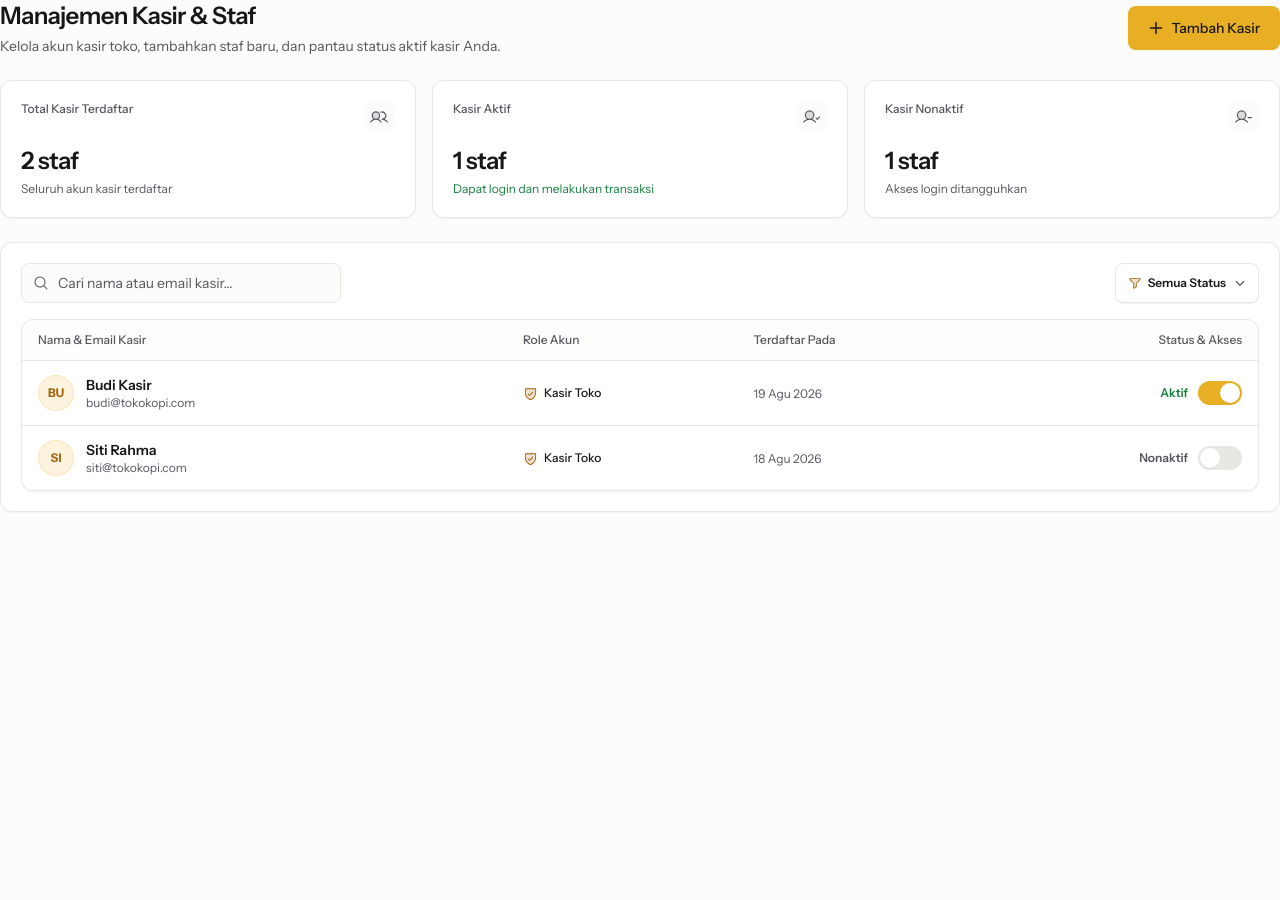
Test: StaffView › opens modal, validates input, and creates a new cashier successfully
# Click 'Tambah Kasir' button
Click the button "Tambah Kasir" at (1204, 28), box [1128,6,1279,50]
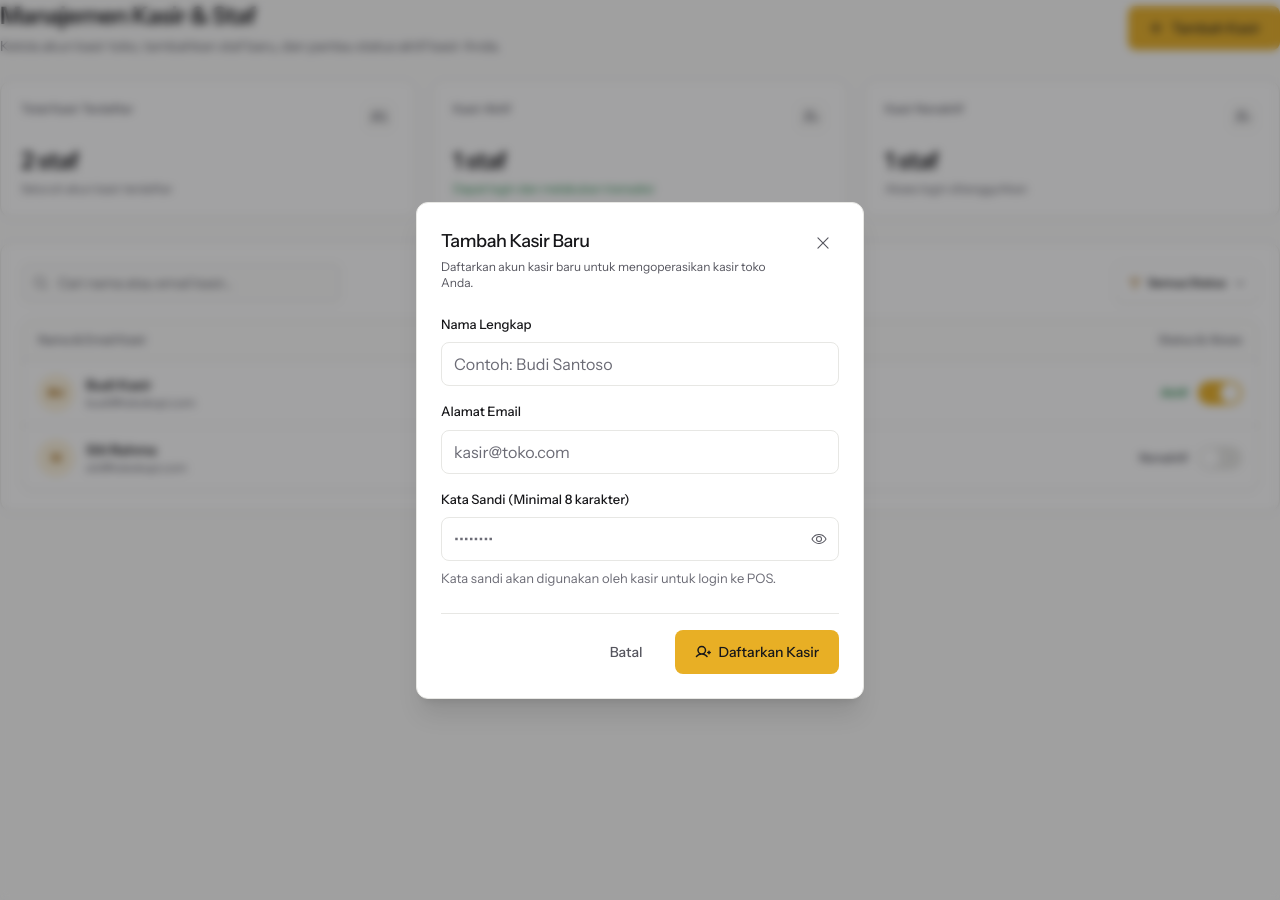
Check: the heading "Tambah Kasir Baru" is shown, box [441,230,589,252]
# Fill form
Type "Ahmad Fauzi" into the field with placeholder "Contoh: Budi Santoso" at (640, 364), box [441,342,839,386]
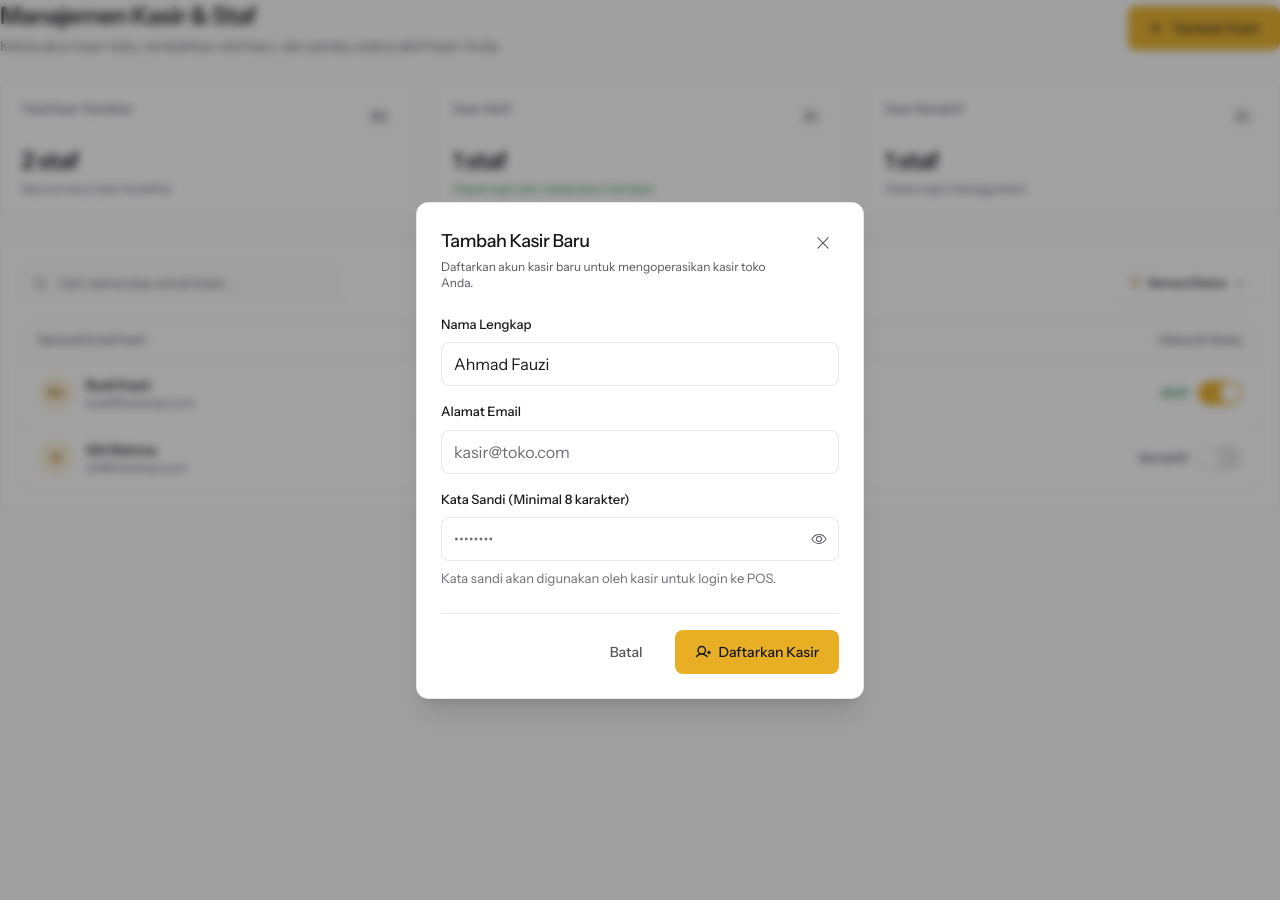
Type "ahmad@tokokopi.com" into the field with placeholder "kasir@toko.com" at (640, 452), box [441,430,839,474]
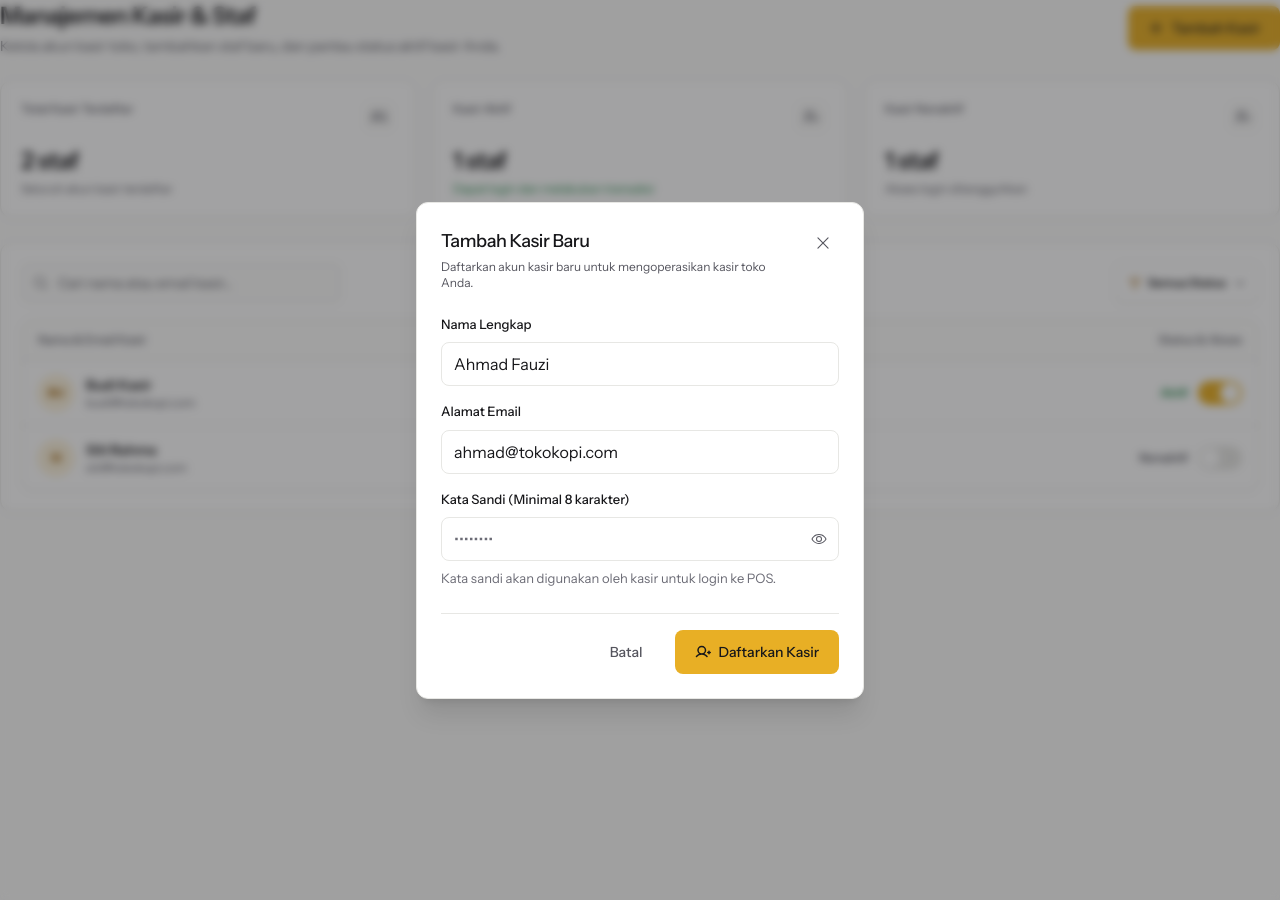
Type "password123" into the password field with placeholder "••••••••" at (640, 539), box [441,517,839,561]
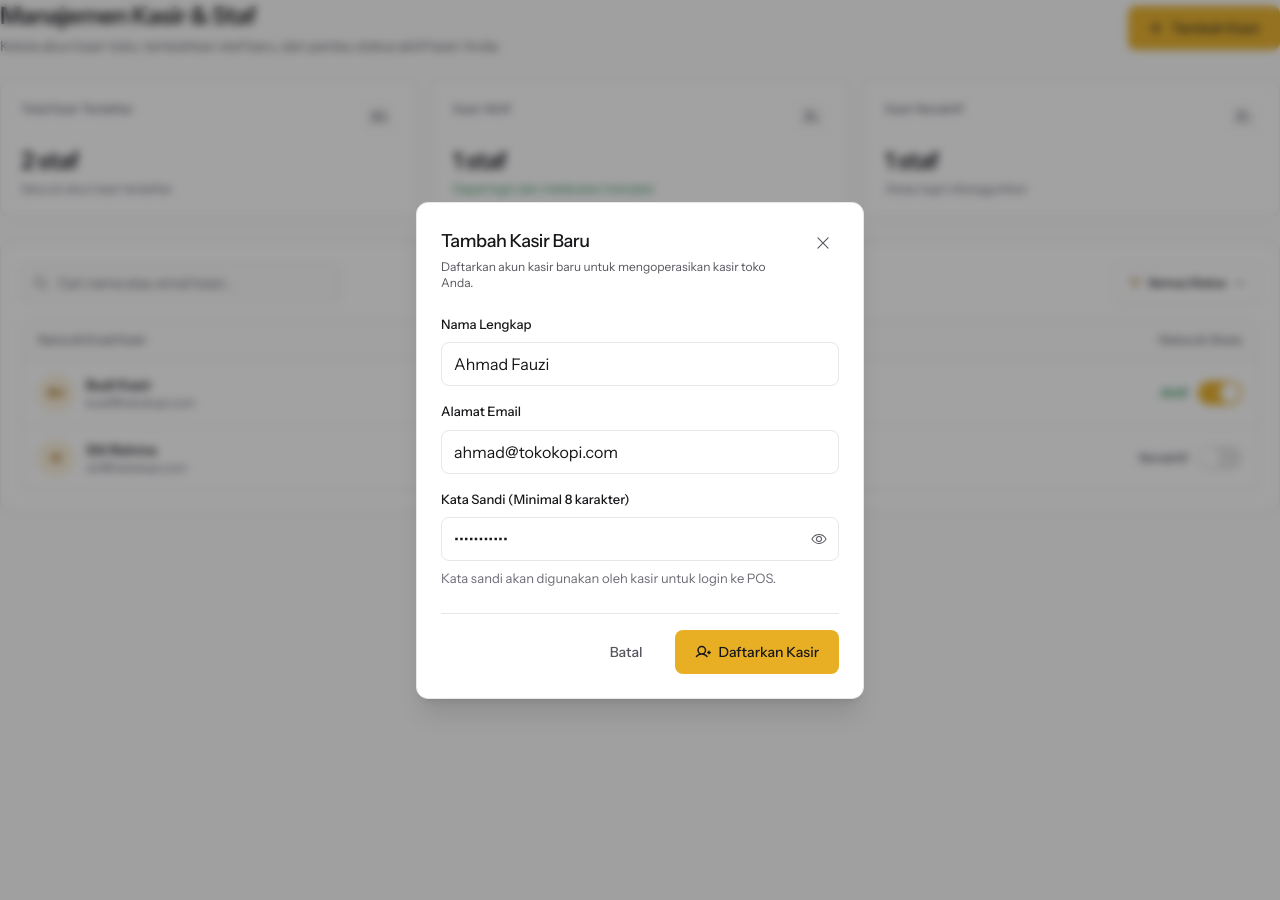
# Submit form
Click the button "Daftarkan Kasir" at (757, 652), box [675,630,839,674]
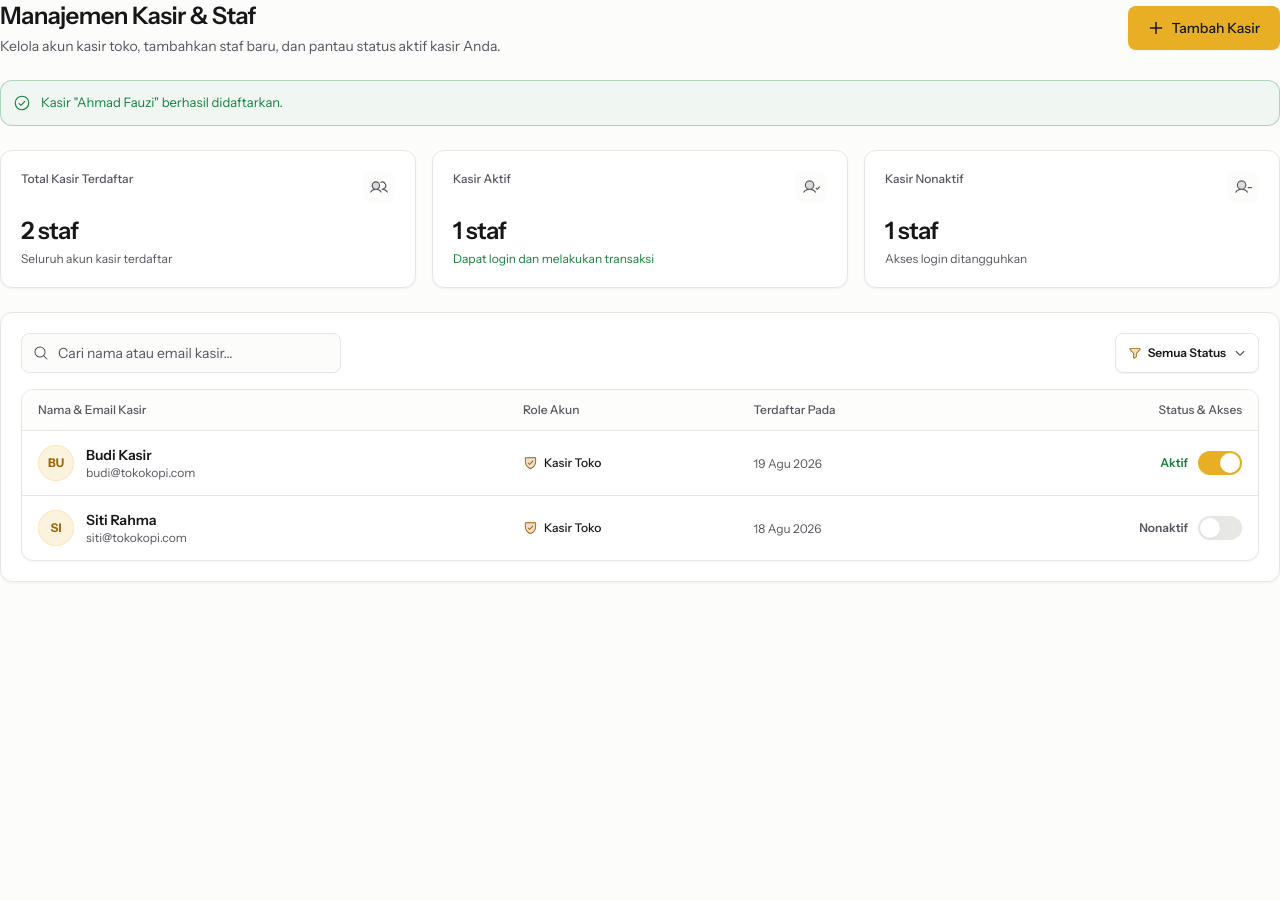
Check: the text "Kasir \"Ahmad Fauzi\" berhasil didaftarkan." is shown, box [41,93,283,112]
